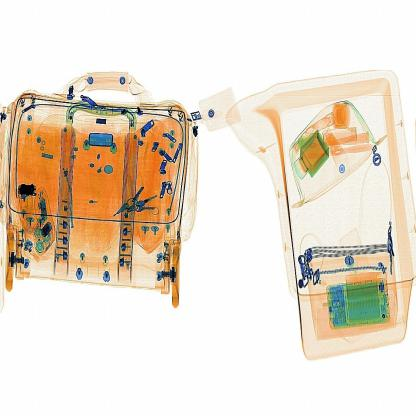scissors: (15, 176, 43, 204)
